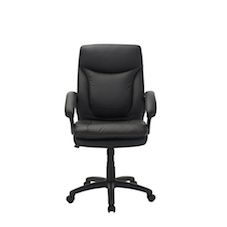chair: (51, 24, 192, 219)
